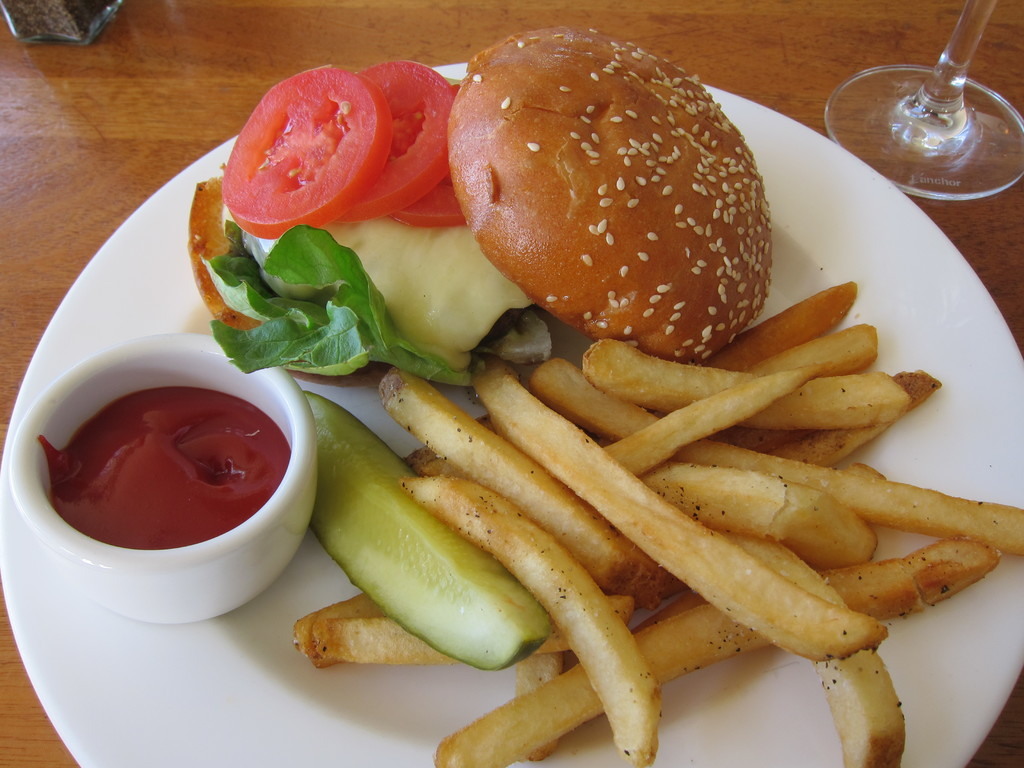hamburger: (171, 22, 773, 385)
